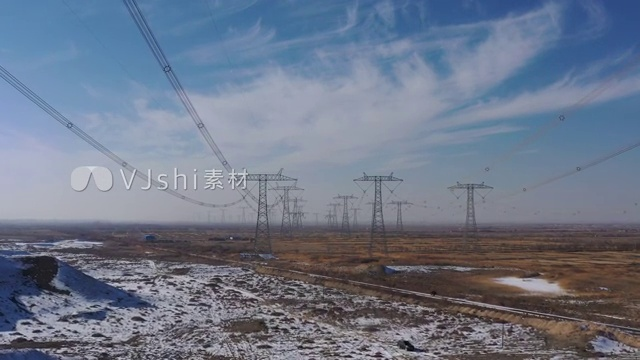tower_body: (231, 165, 301, 254), (348, 169, 411, 259), (448, 179, 498, 255)
tower_foot: (251, 229, 271, 253), (367, 233, 387, 257)
tower_head: (233, 168, 297, 183), (352, 172, 410, 183), (449, 182, 496, 192)
